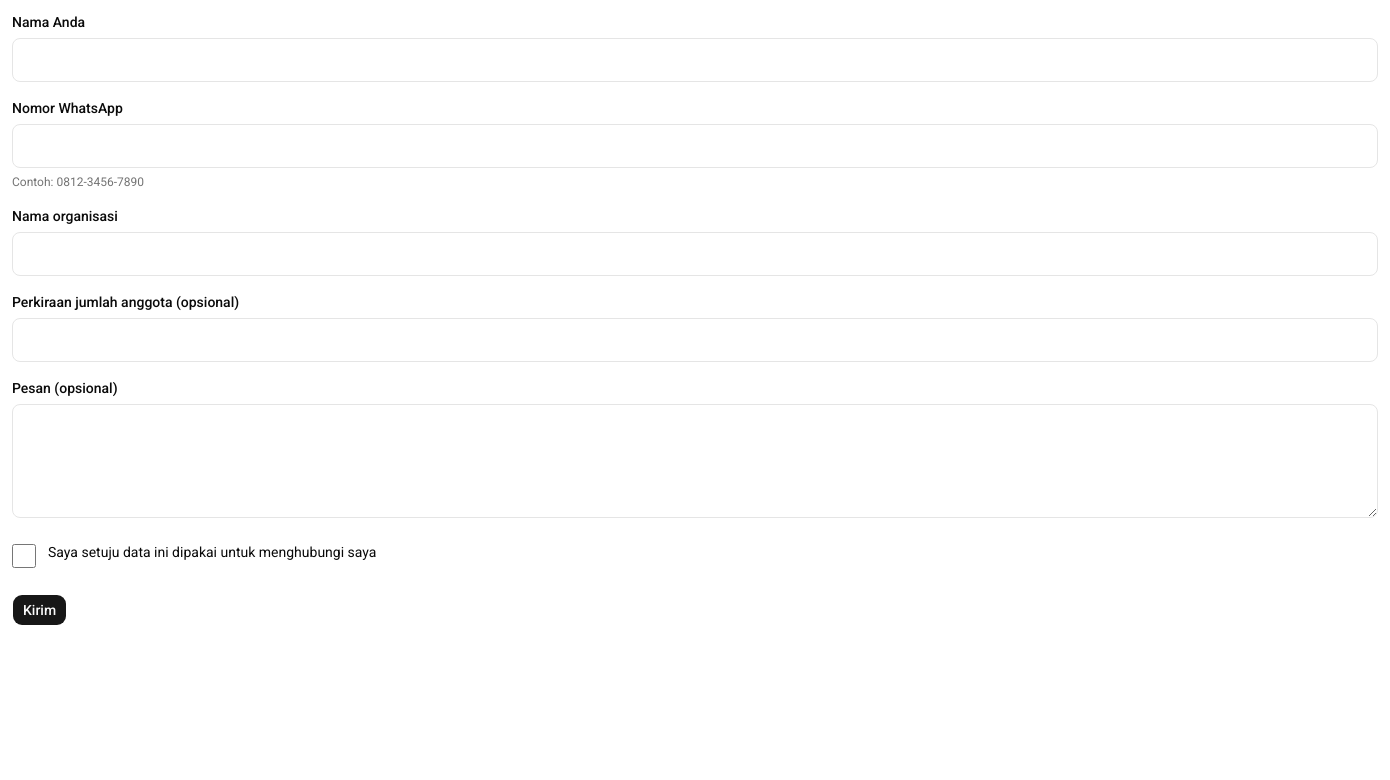
Test: InterestForm › sends the values, shows the success state with the WhatsApp link and navigates there
The width and height of the screenshot is (1390, 780).
Type "Budi" into the field labelled "Nama Anda" at (695, 60), box [12, 38, 1378, 82]
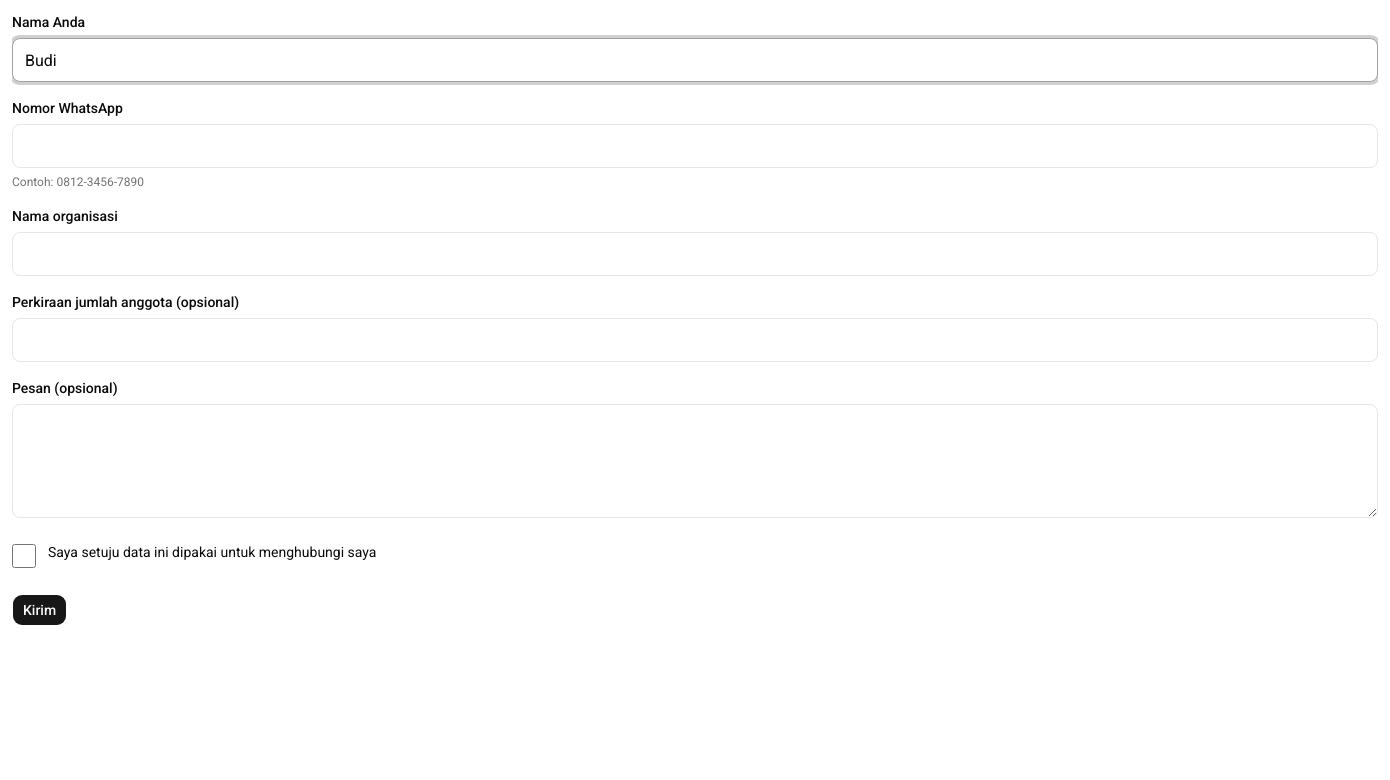
Type "0812-3456-7890" into the field labelled "Nomor WhatsApp" at (695, 146), box [12, 124, 1378, 168]
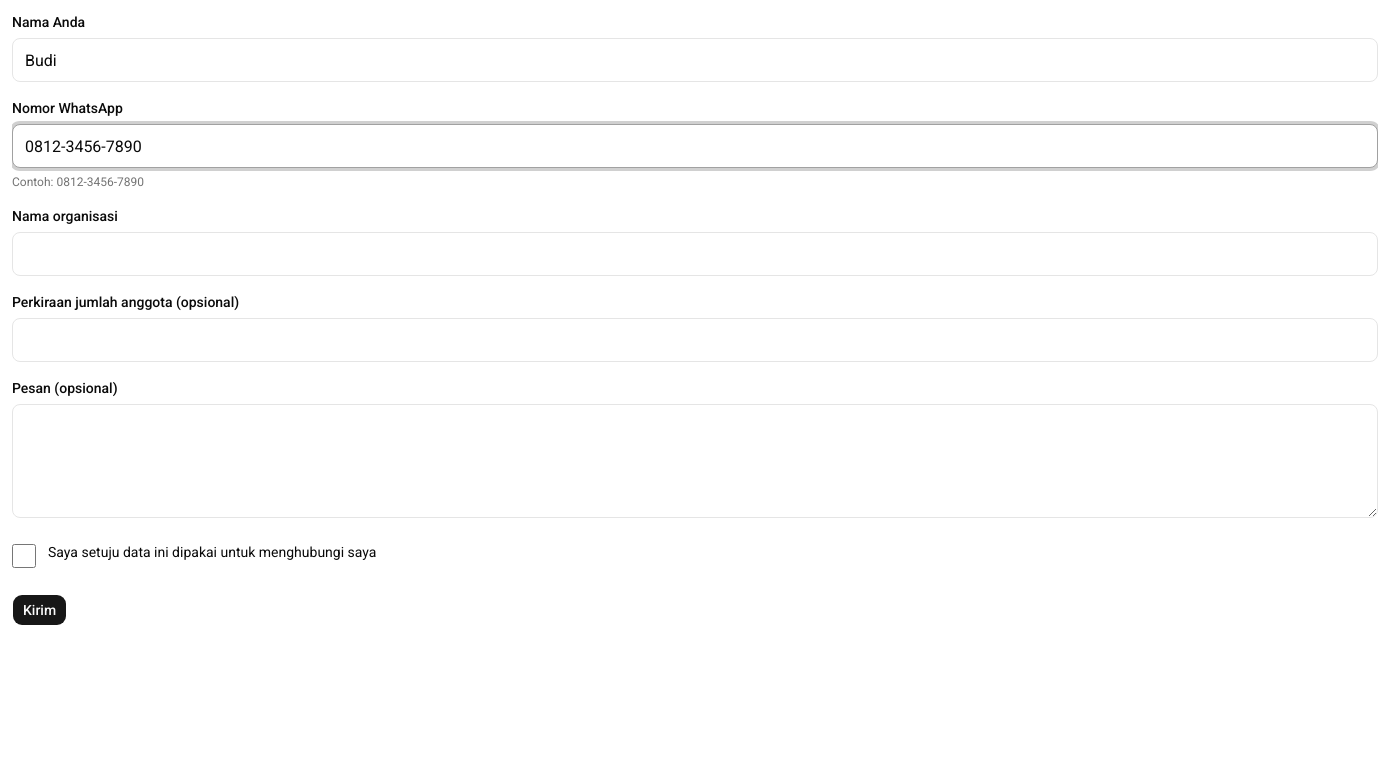
Type "Majelis An-Nur" into the field labelled "Nama organisasi" at (695, 254), box [12, 232, 1378, 276]
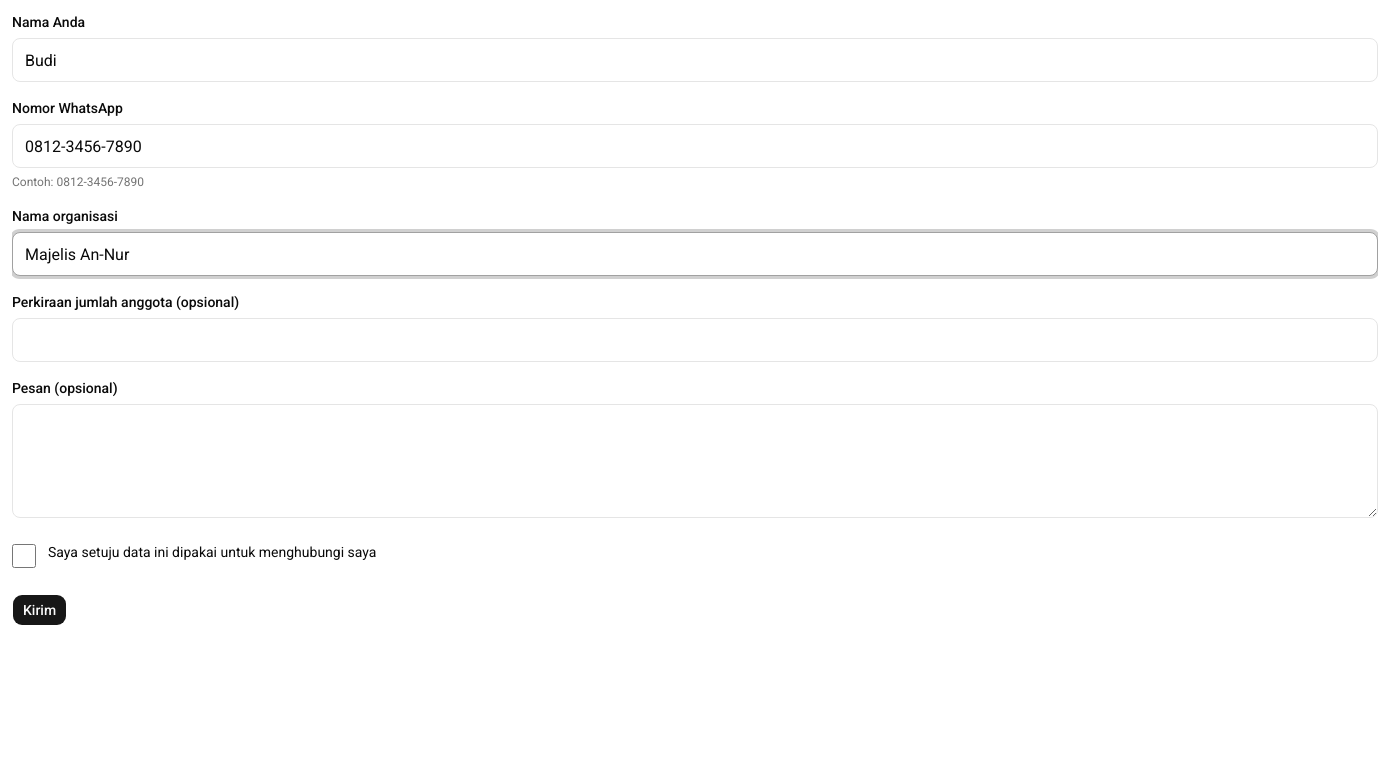
Click the checkbox labelled "Saya setuju data ini dipakai untuk menghubungi saya" at (24, 556), box [12, 544, 36, 568]
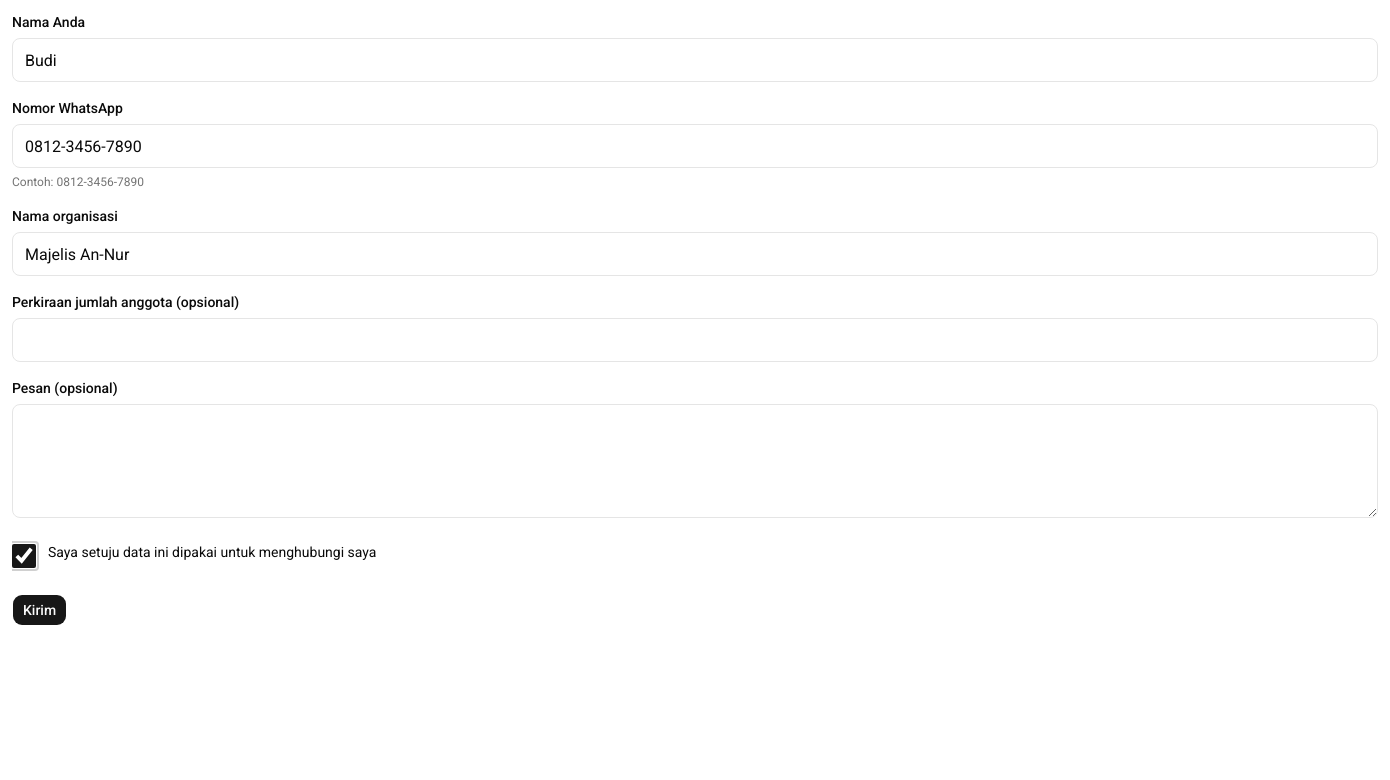
Click the button "Kirim" at (40, 610), box [12, 594, 67, 626]
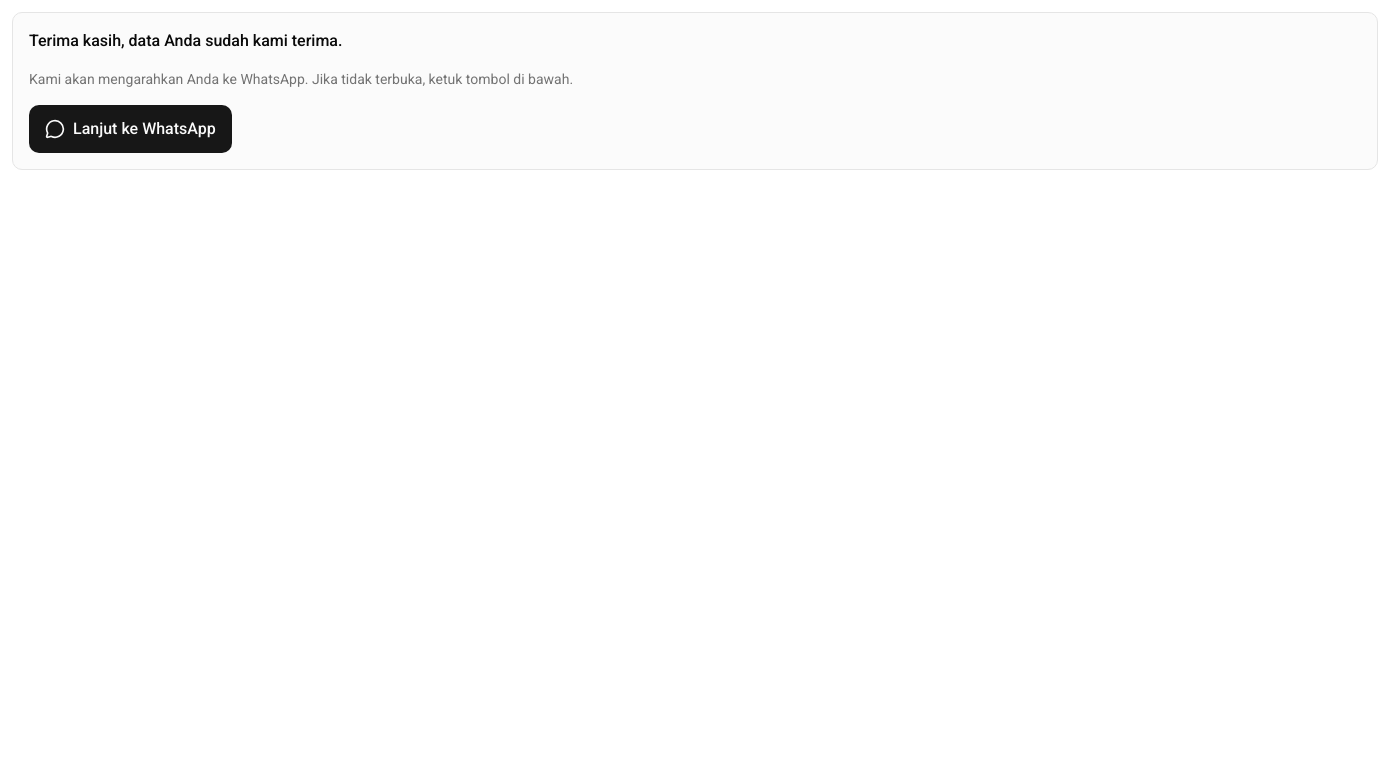
Expected: the text "Terima kasih, data Anda sudah kami terima." is shown, [29, 31, 342, 50]
Expected: the button "Kirim" is gone
